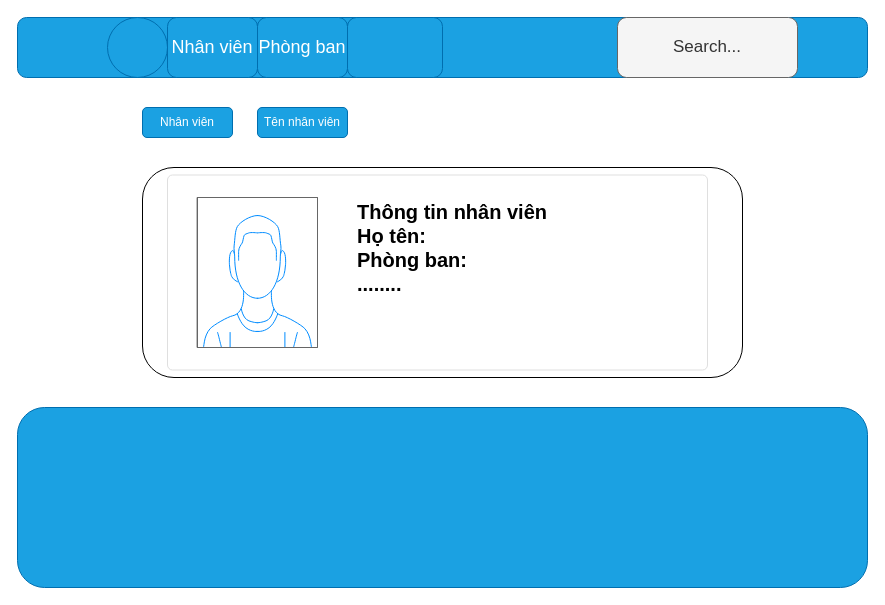
Image size: 885x605. Some labels were removed from this diagram. The centre of each missing label's shape, as x and y in pixels:
"Bảng lương" belongs at point (394, 47).
"Footer" belongs at point (442, 497).
"Logo" belongs at point (137, 47).
